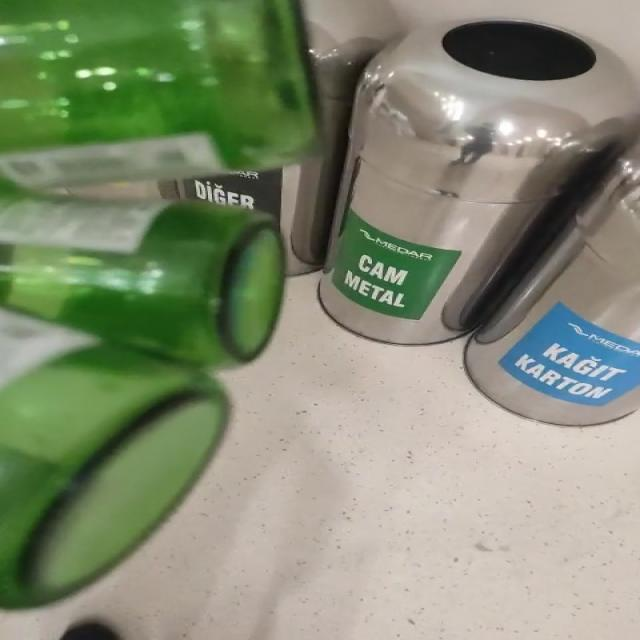glass: (1, 0, 315, 609)
